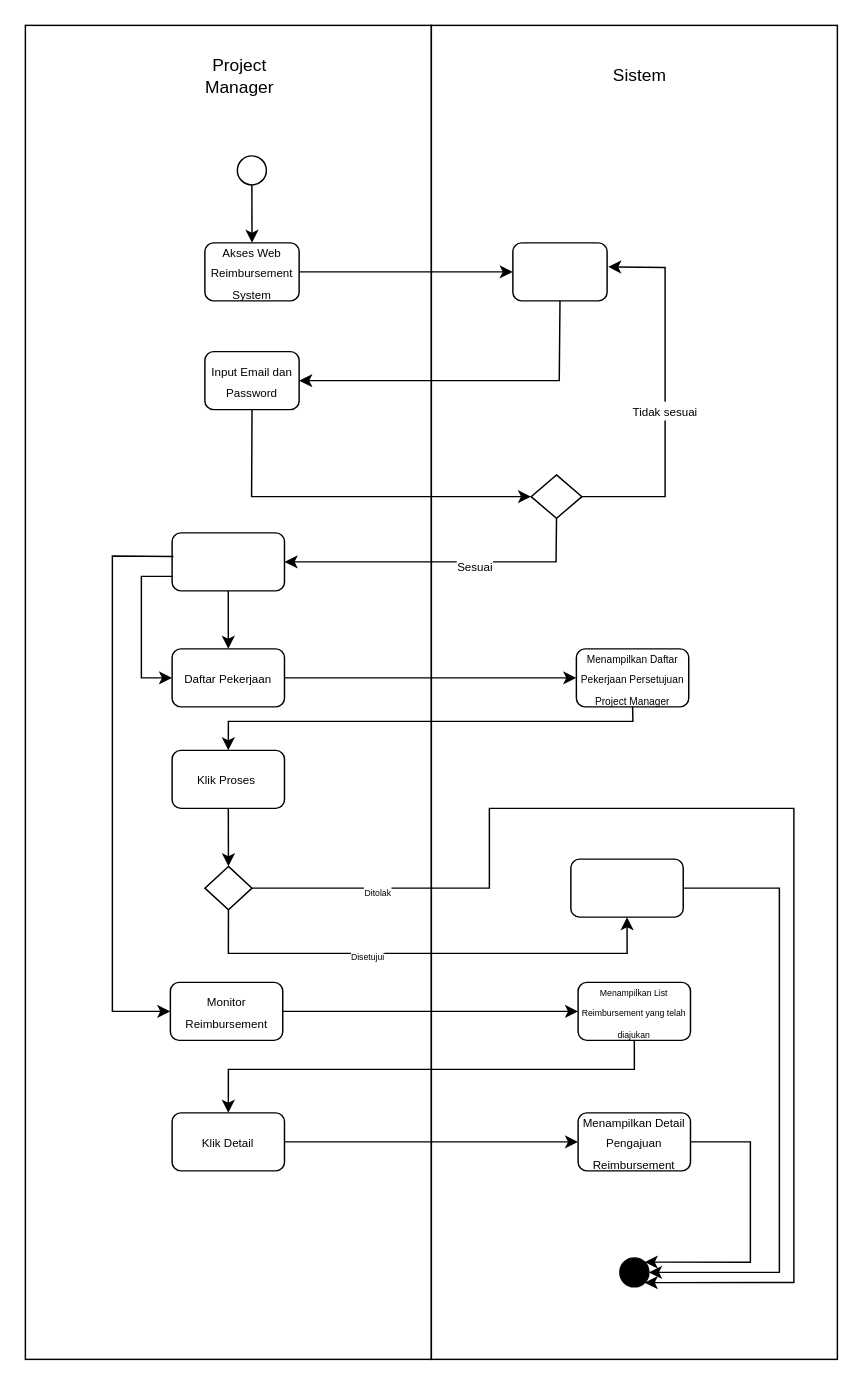
Image size: 863x1385. Some labels were removed from this diagram. Each missing label, with the centre of its shape:
"Autentikasi Login" goes at point (556, 495).
"Menampilkan Dashboard" goes at point (227, 561).
"Menampilkan form Login" goes at point (559, 271).
"Menyimpan dan mengirim proses ke finance" goes at point (626, 887).
